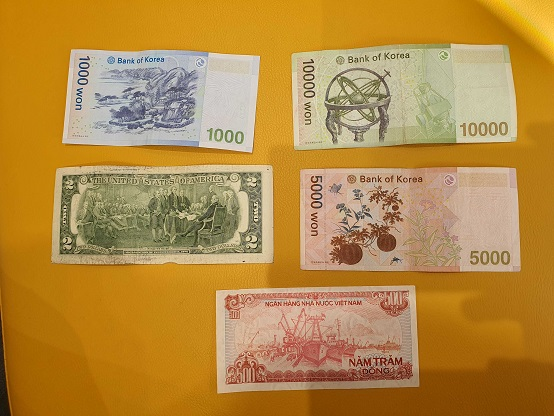10000won: (290, 43, 519, 150)
1000won: (63, 48, 259, 154)
2dollar: (54, 165, 273, 266)
5000won: (299, 167, 523, 273)
500vnd: (215, 284, 419, 392)
